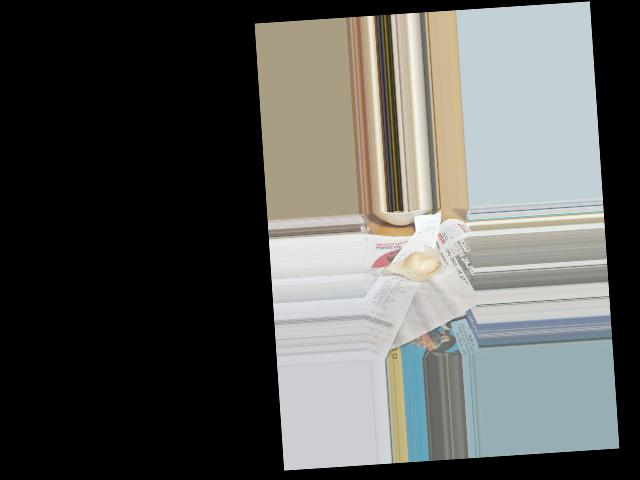onion: (383, 252, 440, 285)
